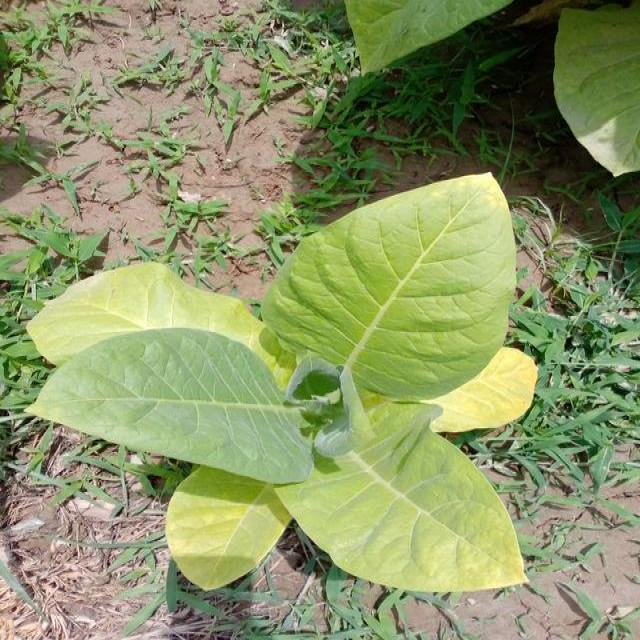crop: (26, 174, 538, 596)
